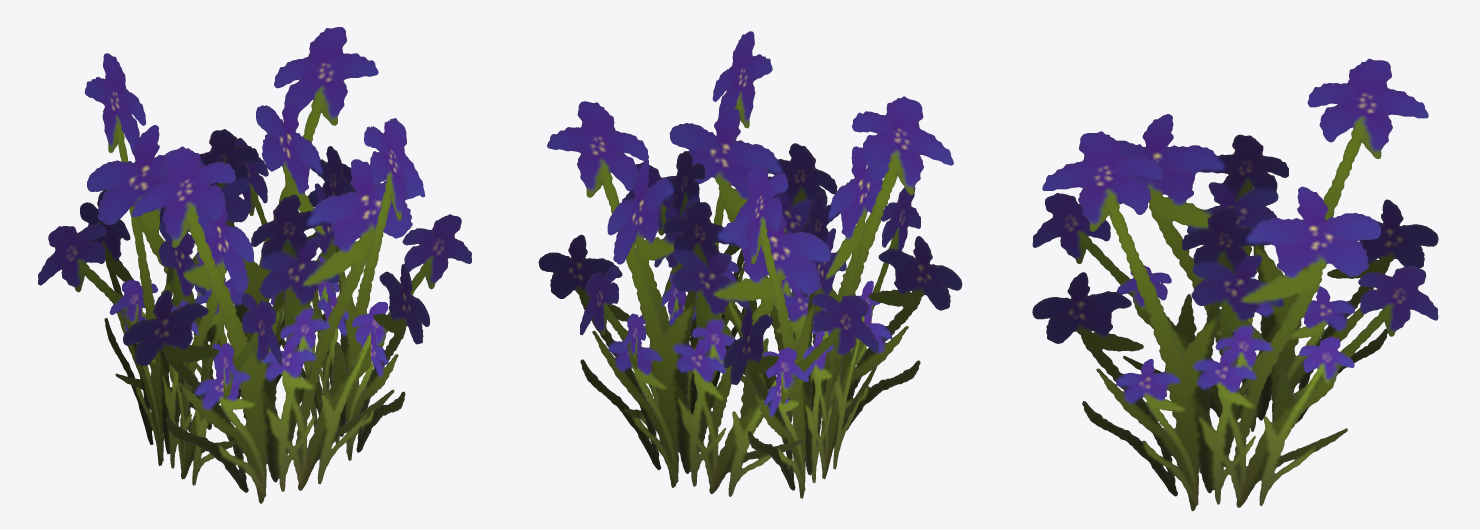
File: painted-flower-4.glb
The picture shows the model from 3 angles, left to right: view 1: azimuth 30°, elevation 25°; view 2: azimuth 150°, elevation 25°; view 3: azimuth 270°, elevation 25°; orthographic projection. The views are drawn at different scales.
Size of the model in its own units: 5.36 by 5.11 by 5.36.
Materials: 1 (1 with a texture image).
